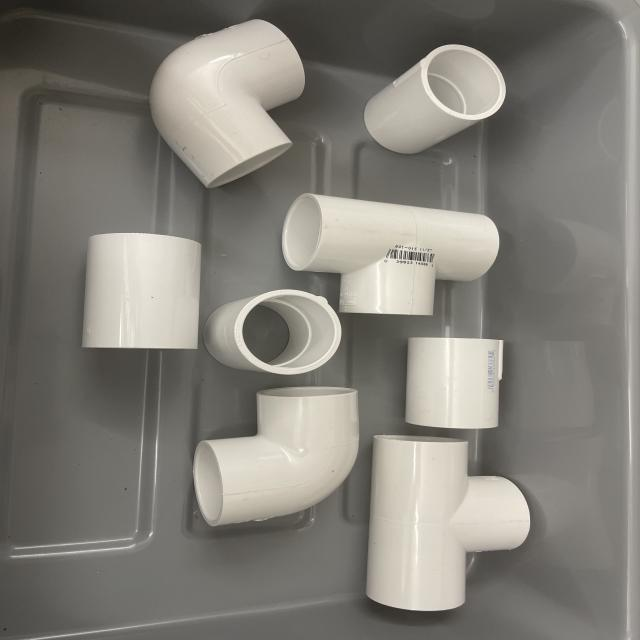L Joint: (148, 19, 308, 191), (185, 386, 360, 534)
T Joint: (365, 435, 531, 615), (282, 195, 500, 319)
